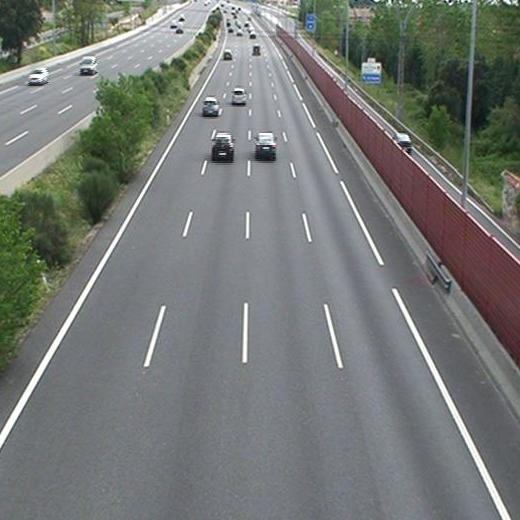car: (255, 132, 275, 156), (211, 135, 233, 156), (202, 98, 220, 115), (232, 88, 247, 103), (222, 50, 233, 59), (252, 45, 261, 53)
